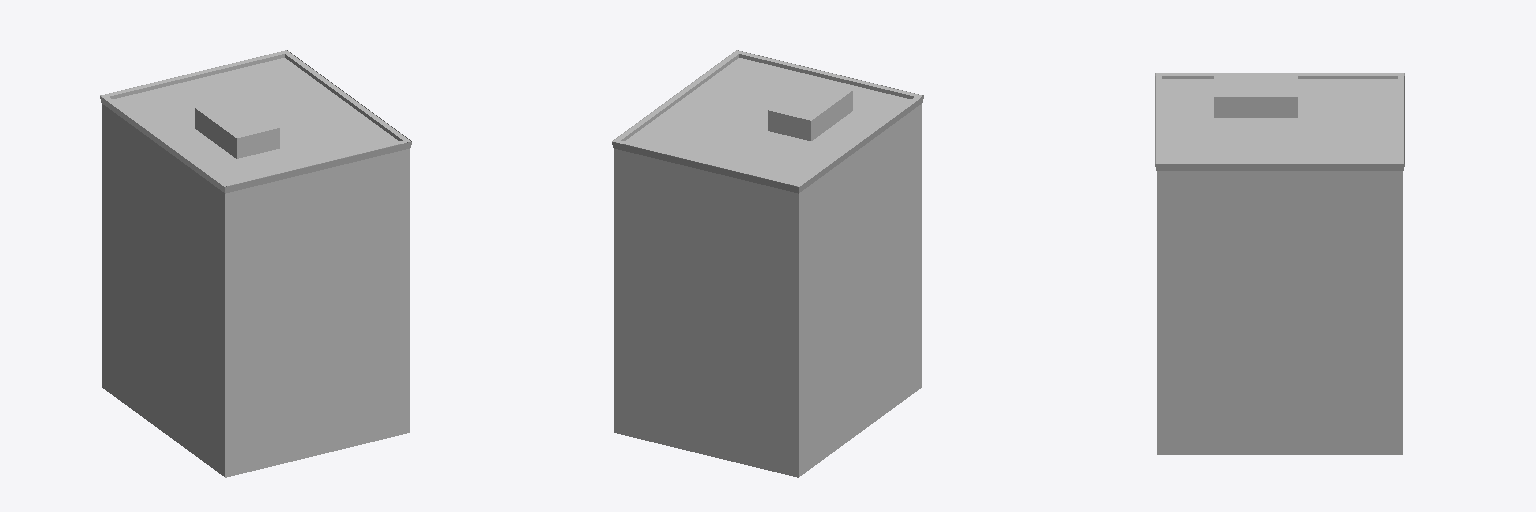
File: building_43.obj
3 views of the same model, side by side, from view 1: azimuth 30°, elevation 25°; view 2: azimuth 150°, elevation 25°; view 3: azimuth 270°, elevation 25° (orthographic).
Visible parts, largest first — view 1: BakedBuilding_340; view 2: BakedBuilding_340; view 3: BakedBuilding_340.
Boxes of the visible parts, x1=… form: BakedBuilding_340: x1=100, y1=50, x2=411, y2=477; BakedBuilding_340: x1=612, y1=50, x2=923, y2=477; BakedBuilding_340: x1=1155, y1=73, x2=1404, y2=454.
Bounding box in the file's own units: 59.05 × 92.87 × 68.2.